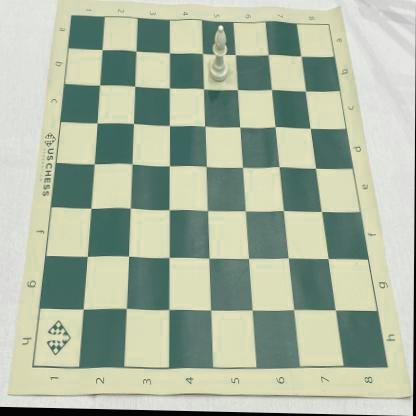white-bishop: (208, 26, 229, 84)
